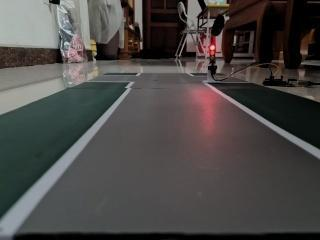red: (205, 39, 223, 69)
